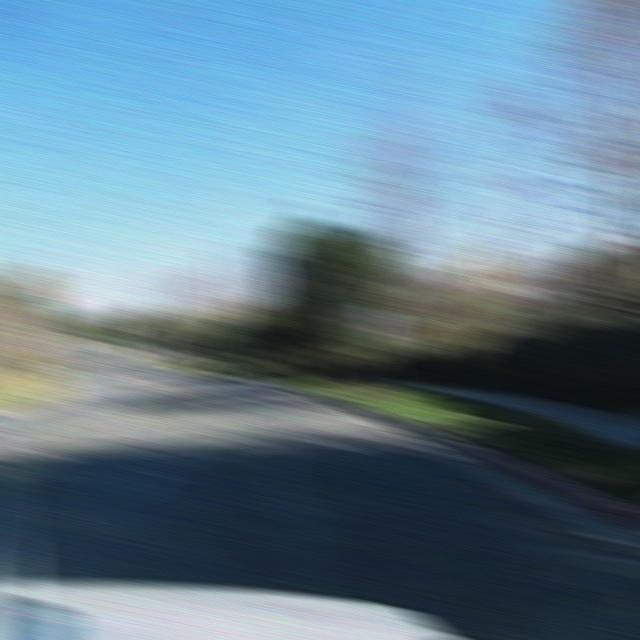speedLimit40: (361, 305, 396, 338)
